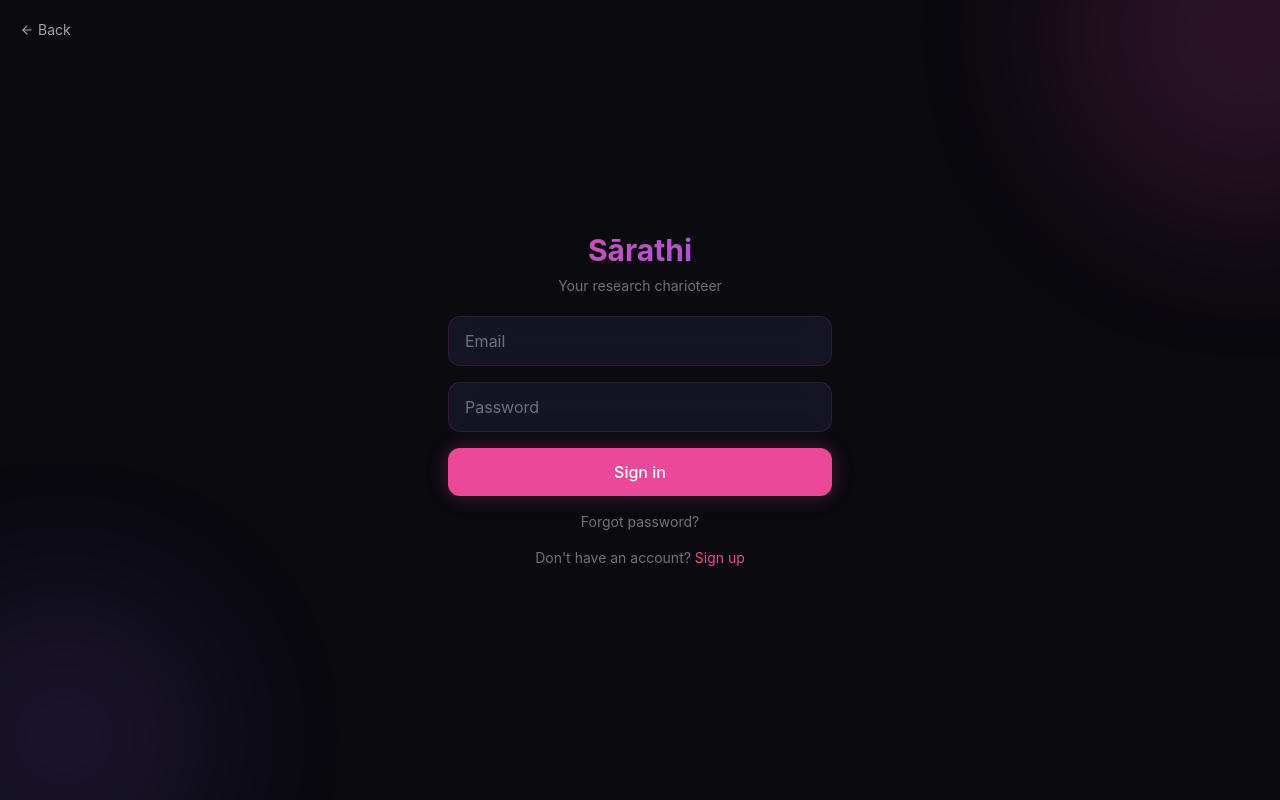
Login › signs up, verifies the emailed code, then logs in
Later steps or results of the test are not shown.
Expected: the field with placeholder "Email" is shown, [448,316,832,366]
Click the button "Sign up" at (720, 558), box [695,548,745,568]
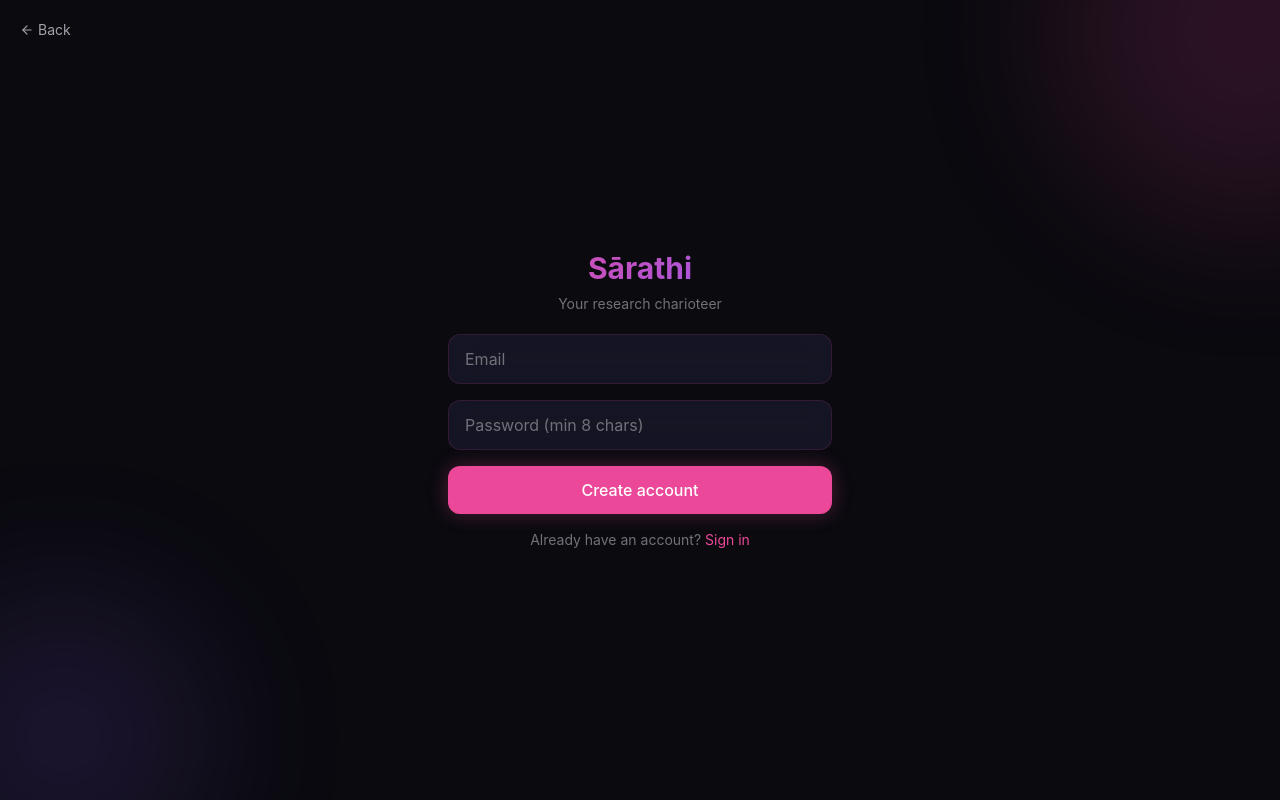
Type "new@example.com" into the field with placeholder "Email" at (640, 359), box [448,334,832,384]
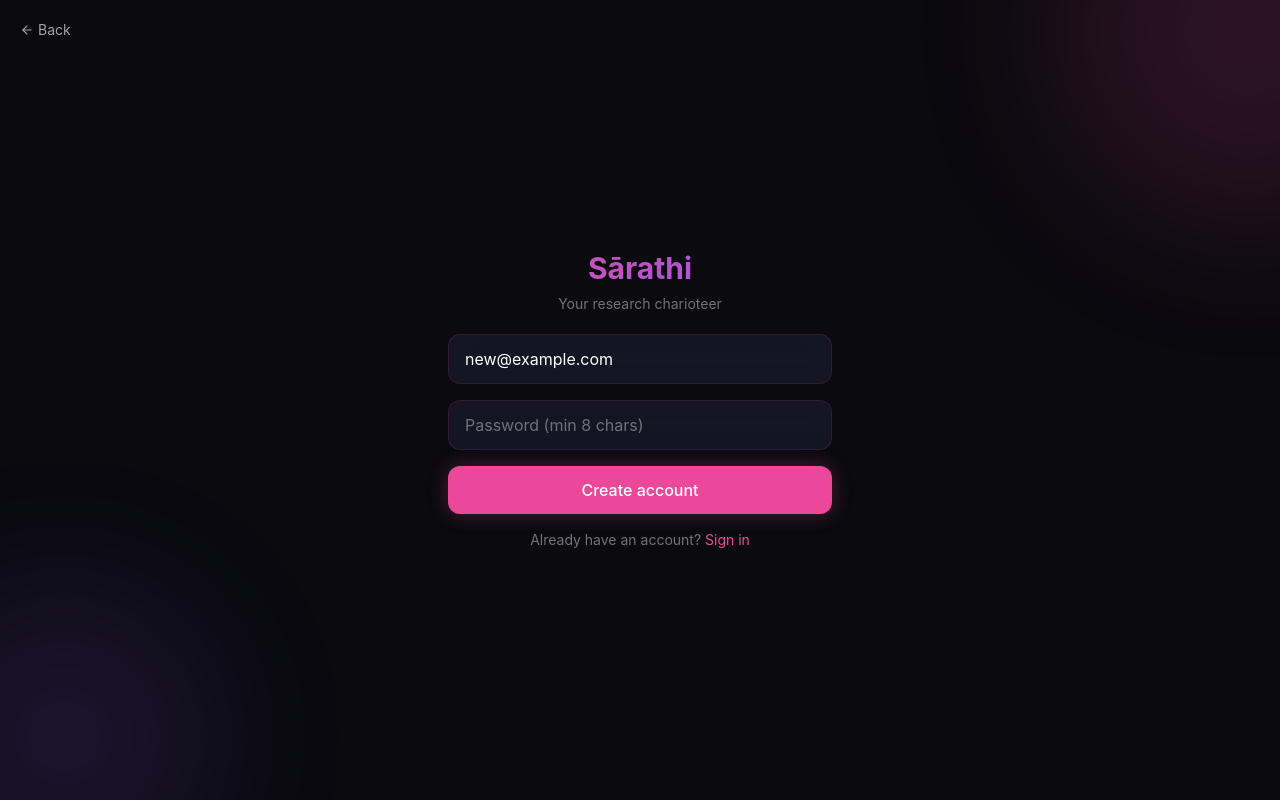
Type "password123" into the password field with placeholder "Password (min 8 chars)" at (640, 425), box [448,400,832,450]
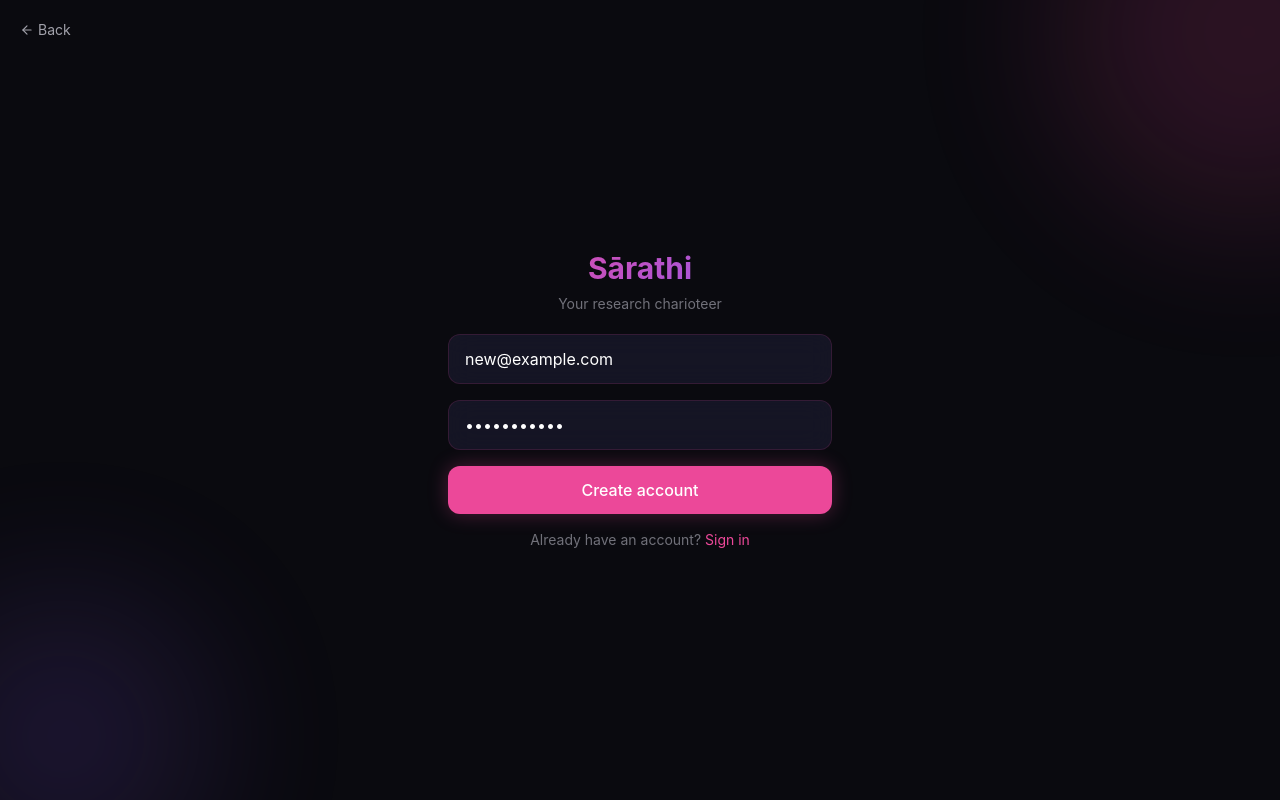
Click the button "Create account" at (640, 490), box [448,466,832,514]
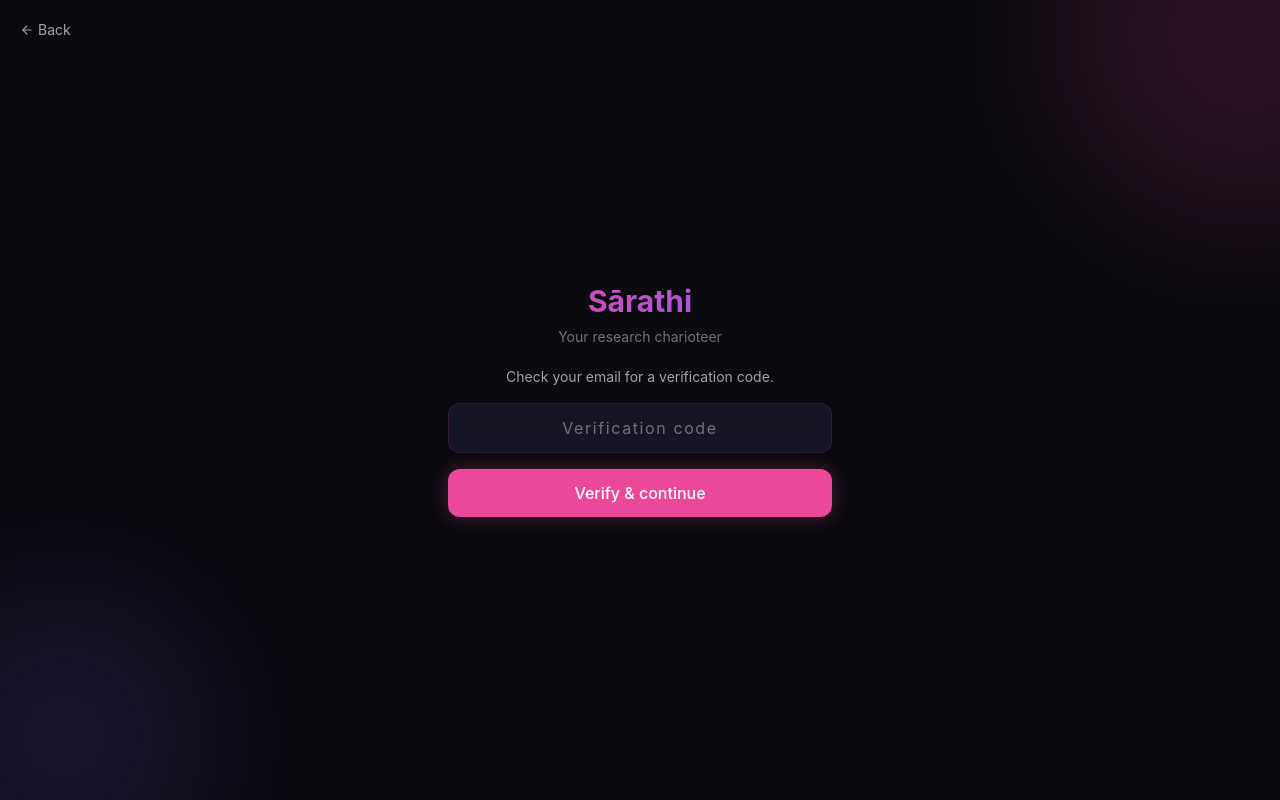
Expected: the field with placeholder "Verification code" is shown, [448,403,832,453]
